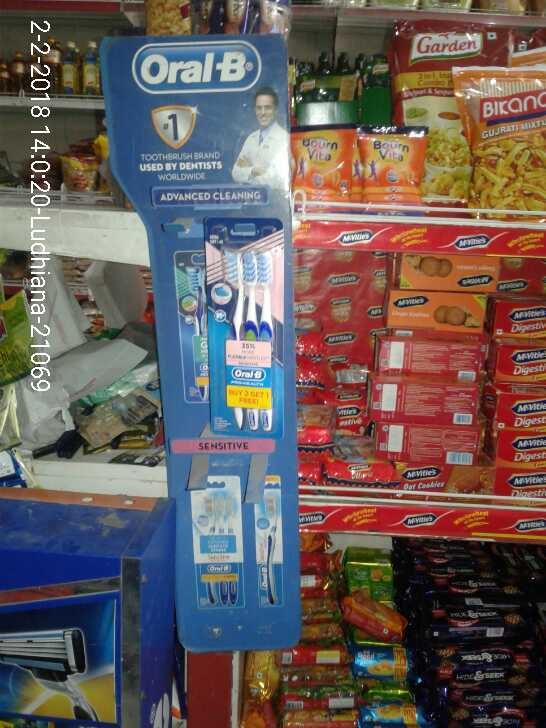oralb: (208, 242, 288, 436)
